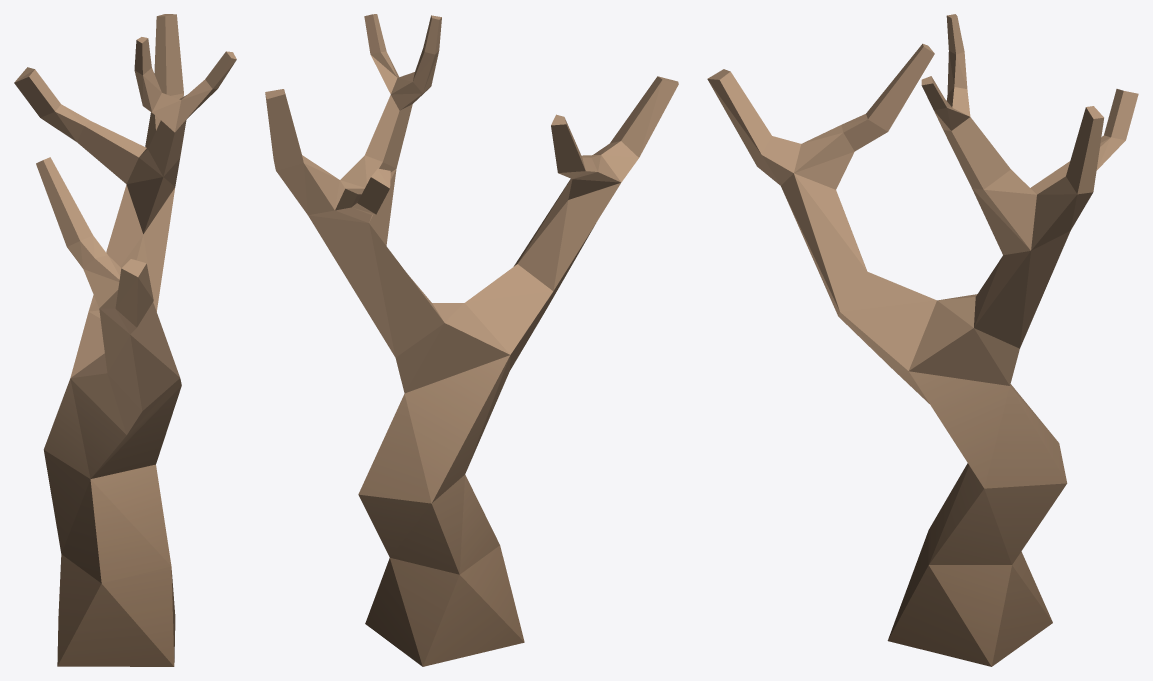
The model's file is CleanBark2.fbx.
3 renders of one model, left to right at view 1: azimuth 30°, elevation 25°; view 2: azimuth 150°, elevation 25°; view 3: azimuth 270°, elevation 25°, orthographic. The views are drawn at different scales.
Visible parts, largest first — view 1: CleanBark2; view 2: CleanBark2; view 3: CleanBark2.
Part boxes in pixels (x1,y1,x2,y2): CleanBark2: (14, 14, 236, 666); CleanBark2: (265, 14, 678, 666); CleanBark2: (707, 14, 1138, 666).
Bounding box in the file's own units: 150 × 371 × 232.
